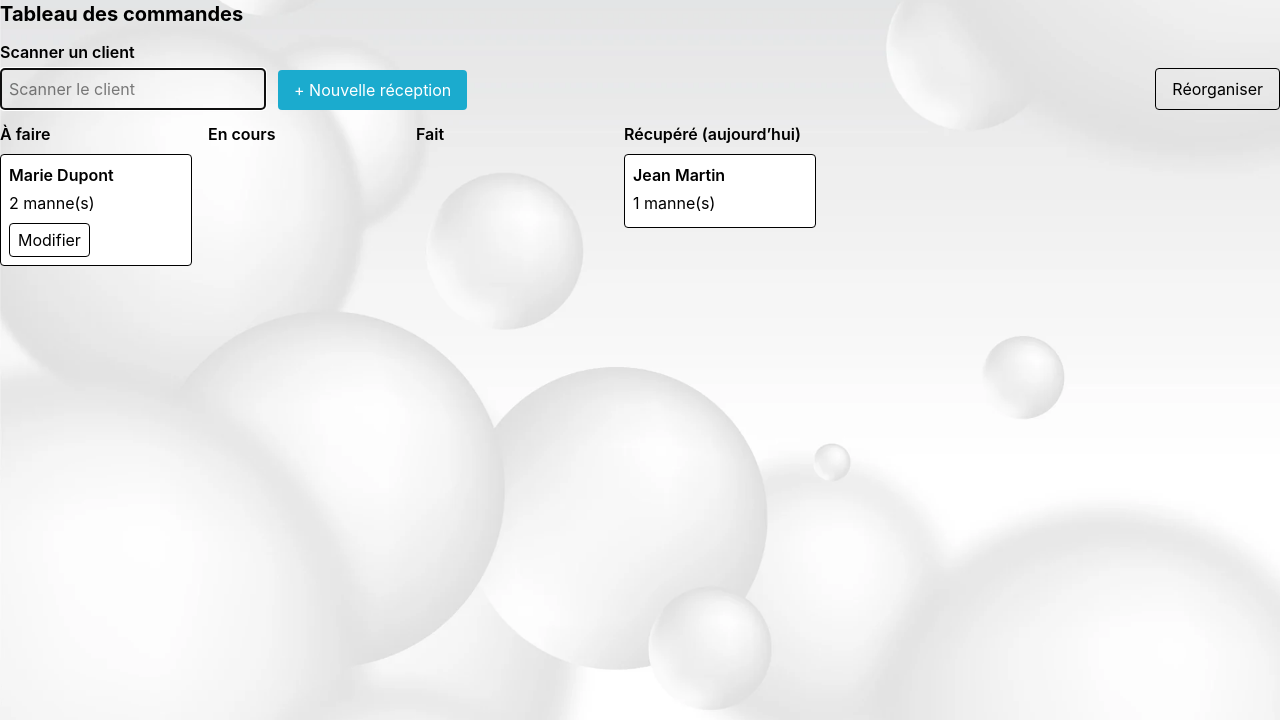
Test case: Tableau › clic sur une carte → ouvre la modale de détail
The image size is (1280, 720).
What coordinates should you click on to do the following:
click the text "Marie Dupont"
I would click on:
 (61, 175)
Its box is left=9, top=163, right=114, bottom=187.
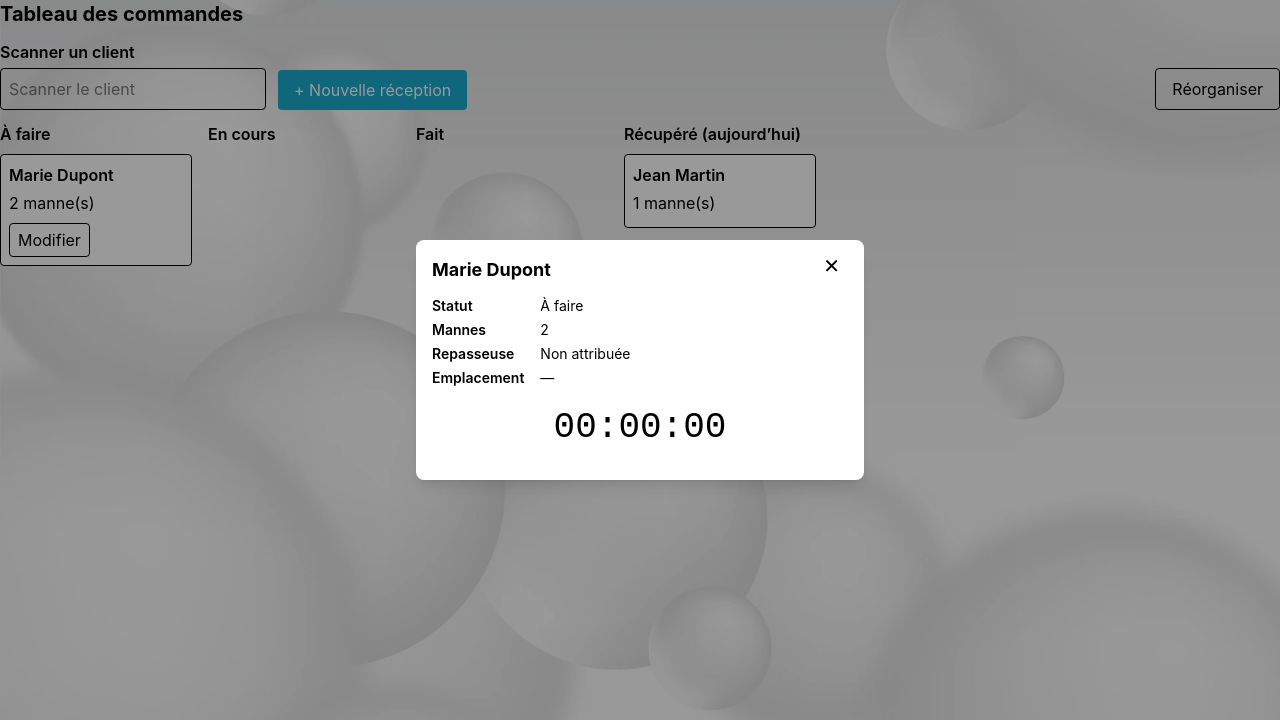
Check: the heading "Marie Dupont" is shown, box left=432, top=256, right=551, bottom=284
